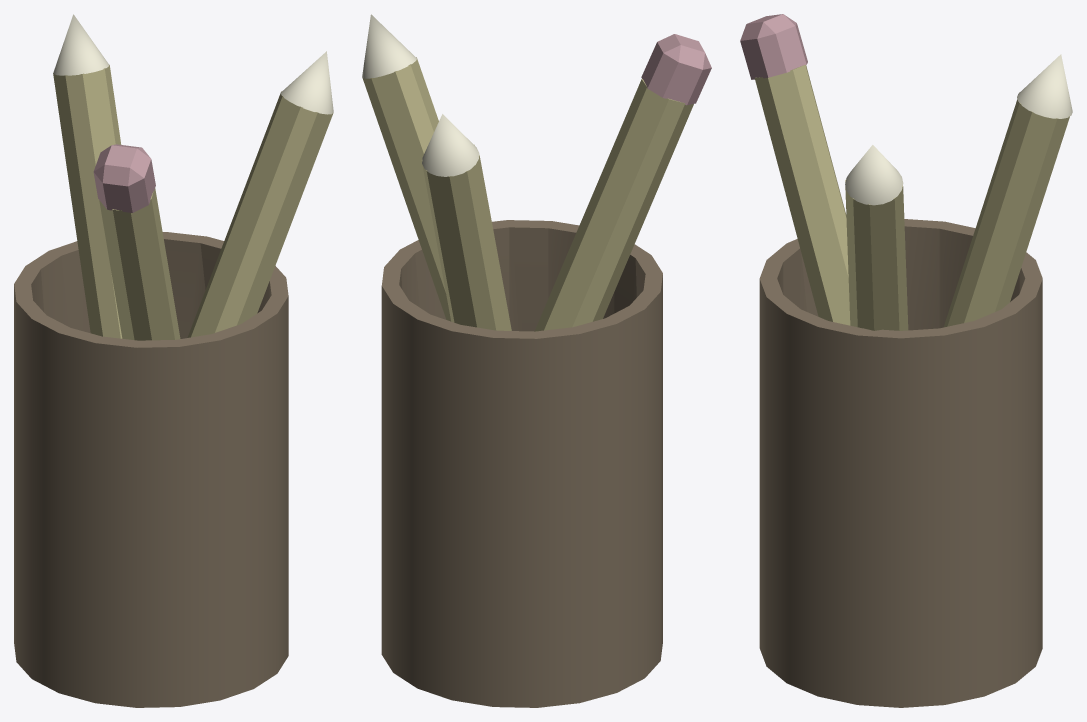
The model's file is penbakje.fbx.
3 renders of one model, left to right at view 1: azimuth 30°, elevation 25°; view 2: azimuth 150°, elevation 25°; view 3: azimuth 270°, elevation 25°, orthographic. The views are drawn at different scales.
Visible parts, largest first — view 1: polySurface1, pasted__pCube1 (×2), pCube1, pCube2, pasted__pCone1, pCone1; view 2: polySurface1, pasted__pCube1 (×2), pCube1, pCube2, pCone1, pasted__pCone1; view 3: polySurface1, pasted__pCube1 (×2), pCube1, pCube2, pasted__pCone1, pCone1.
Part boxes in pixels (left/top/right/bottom): polySurface1: left=14, top=232, right=288, bottom=707; pasted__pCube1 (×2): left=99, top=91, right=333, bottom=340; pCube1: left=53, top=64, right=122, bottom=338; pCube2: left=93, top=144, right=155, bottom=212; pasted__pCone1: left=281, top=51, right=333, bottom=114; pCone1: left=53, top=14, right=108, bottom=75; polySurface1: left=381, top=220, right=662, bottom=707; pasted__pCube1 (×2): left=362, top=57, right=693, bottom=331; pCube1: left=421, top=144, right=511, bottom=330; pCube2: left=641, top=34, right=711, bottom=105; pCone1: left=422, top=114, right=479, bottom=176; pasted__pCone1: left=362, top=14, right=416, bottom=78; polySurface1: left=759, top=219, right=1042, bottom=707; pasted__pCube1 (×2): left=754, top=65, right=908, bottom=330; pCube1: left=944, top=92, right=1069, bottom=327; pCube2: left=740, top=14, right=807, bottom=79; pasted__pCone1: left=845, top=145, right=903, bottom=205; pCone1: left=1017, top=54, right=1072, bottom=118.
Size of the model in its own units: 1.53 by 2.97 by 1.51.
